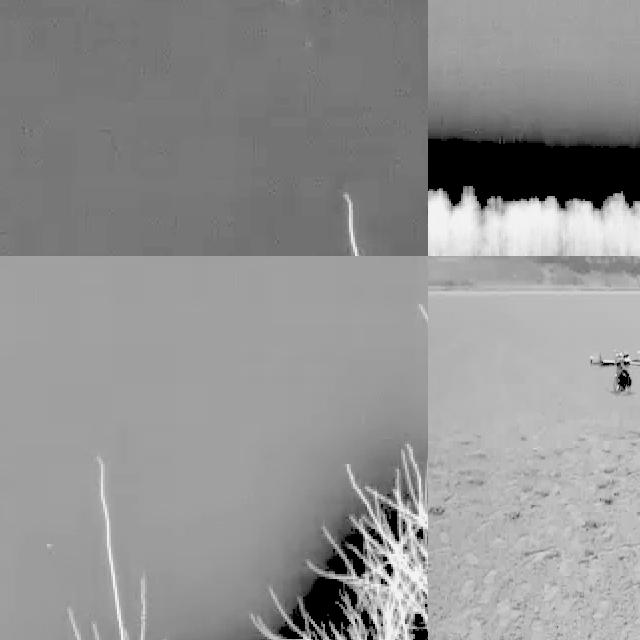0: (34, 534, 58, 559)
drone: (586, 346, 640, 398)
